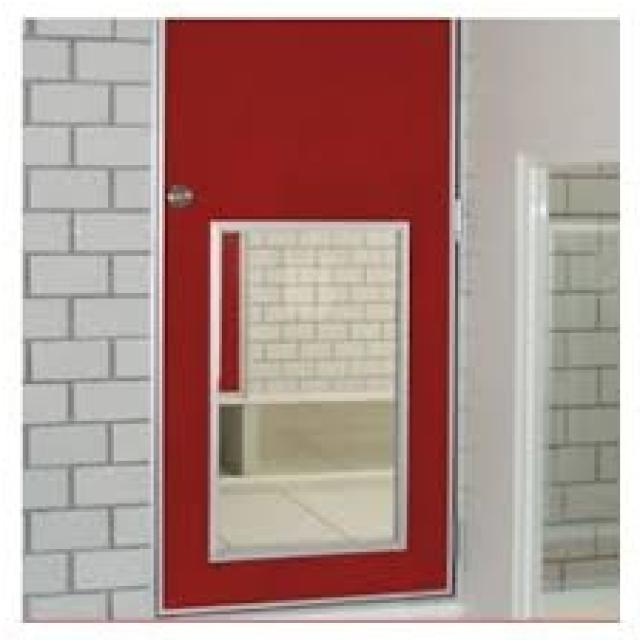door: (158, 18, 456, 613)
